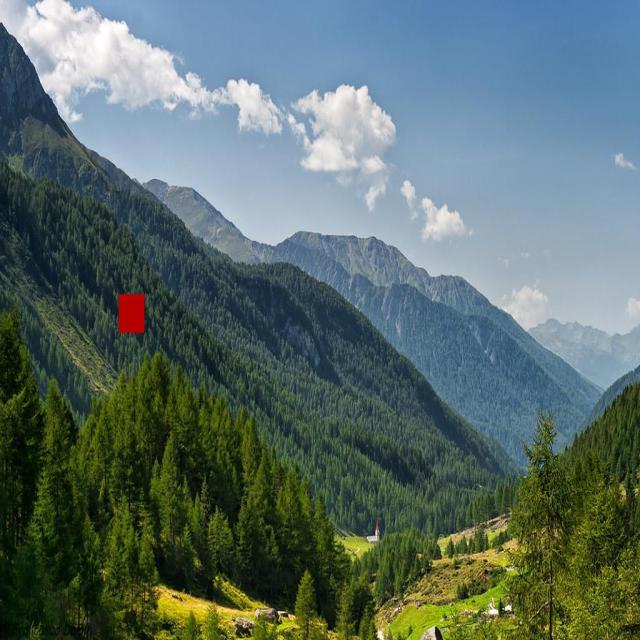RedSquare: (114, 289, 150, 341)
